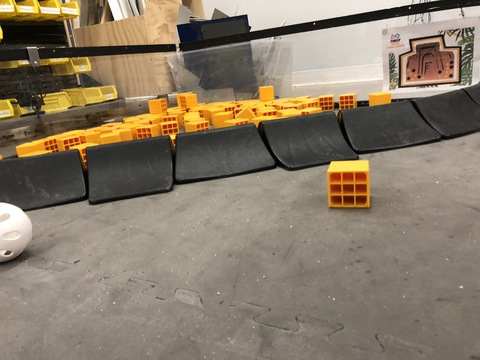ball: (1, 198, 37, 263)
block: (316, 153, 386, 218)
